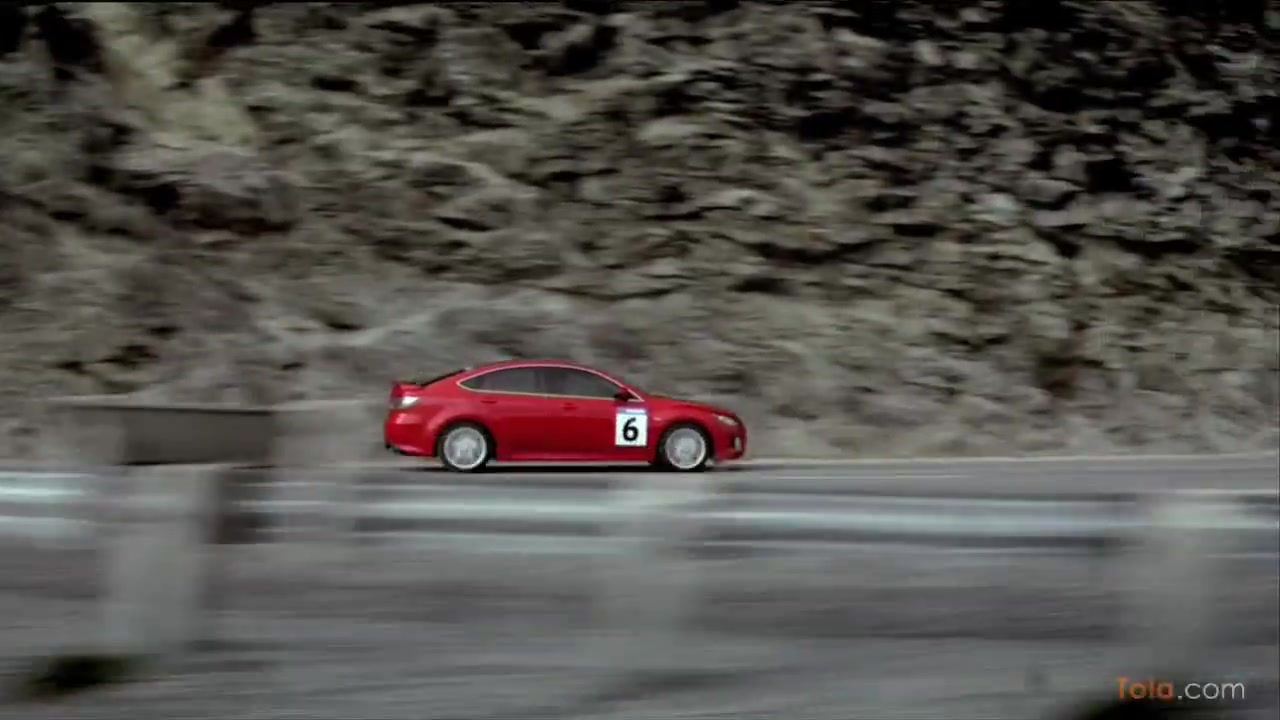car: (379, 353, 752, 470)
